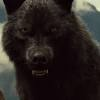Lobo: (1, 1, 95, 92)
